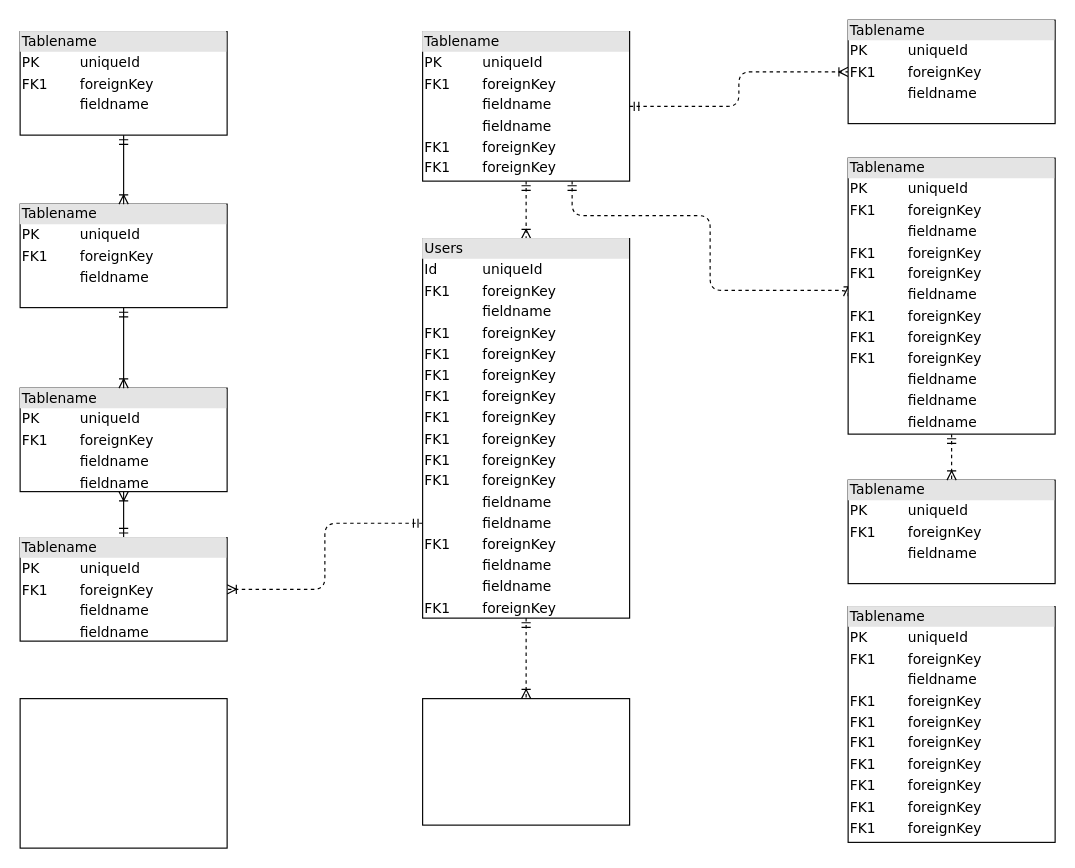
The diagram is 1075 pixels wide and 868 high, and some of its shapes have lost their labels. Here are the shapes that lost their labels. From the top down, the centre of each, then its label:
At point 123,772: "Tablename PK uniqueId FK1 foreignKey fieldname fieldname fieldname fieldname".
At point 525,761: "Tablename PK uniqueId FK1 foreignKey fieldname fieldname FK1 foreignKey".
